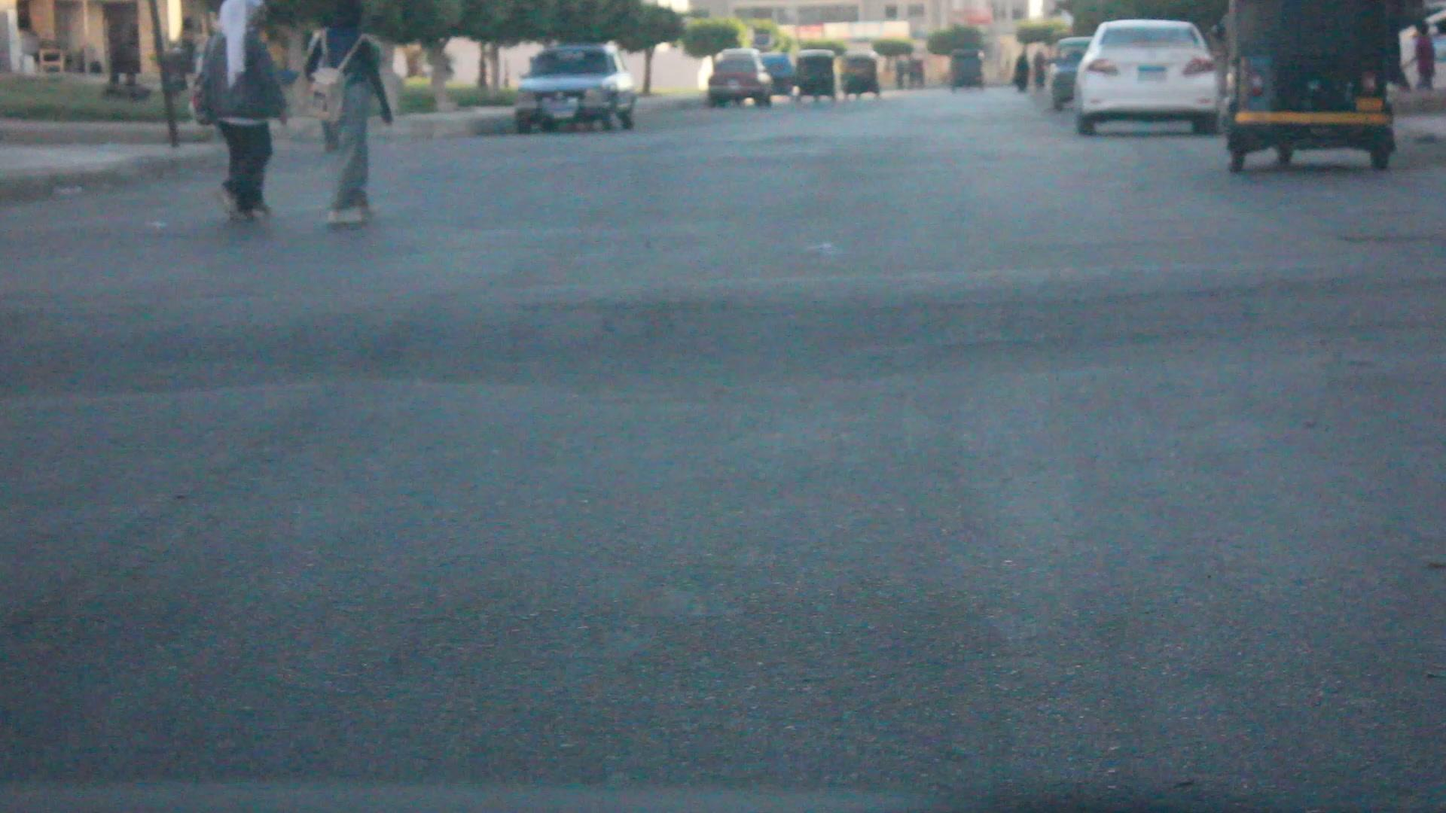Bump: (9, 286, 1446, 401)
